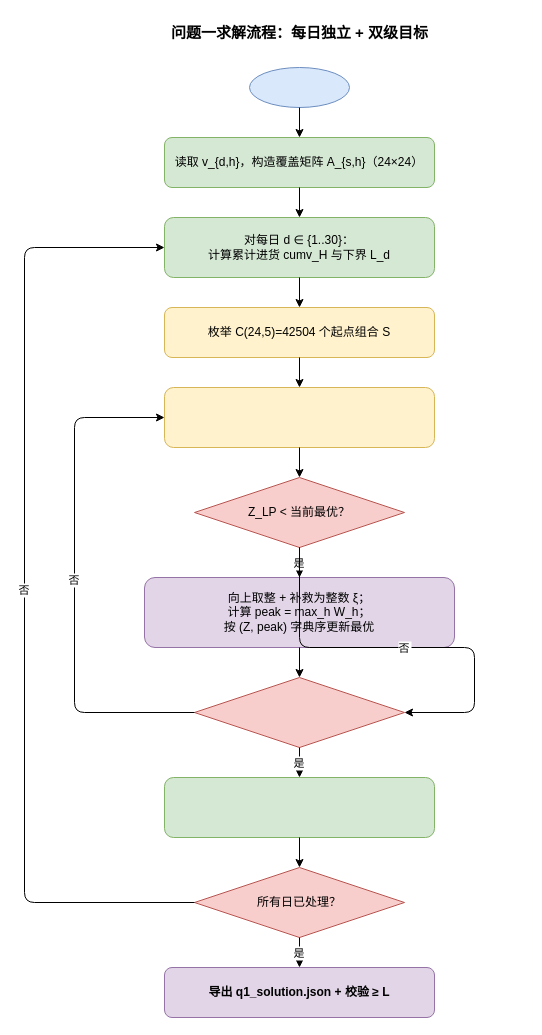
Some shapes in this 542 by 1035 pixel diagram are drawn without their labels. Each missing label, with the centre of its shape:
"保存 ξ_{d,·}, starts_d, peak_d； d ← d+1" belongs at (299,807).
"对每个 S 解 5 变量 LP min ∑ξ_k s.t. C·M_S @ ξ ≥ cumv" belongs at (299,417).
"开始" belongs at (299,87).
"所有组合枚举完毕？" belongs at (299,712).
